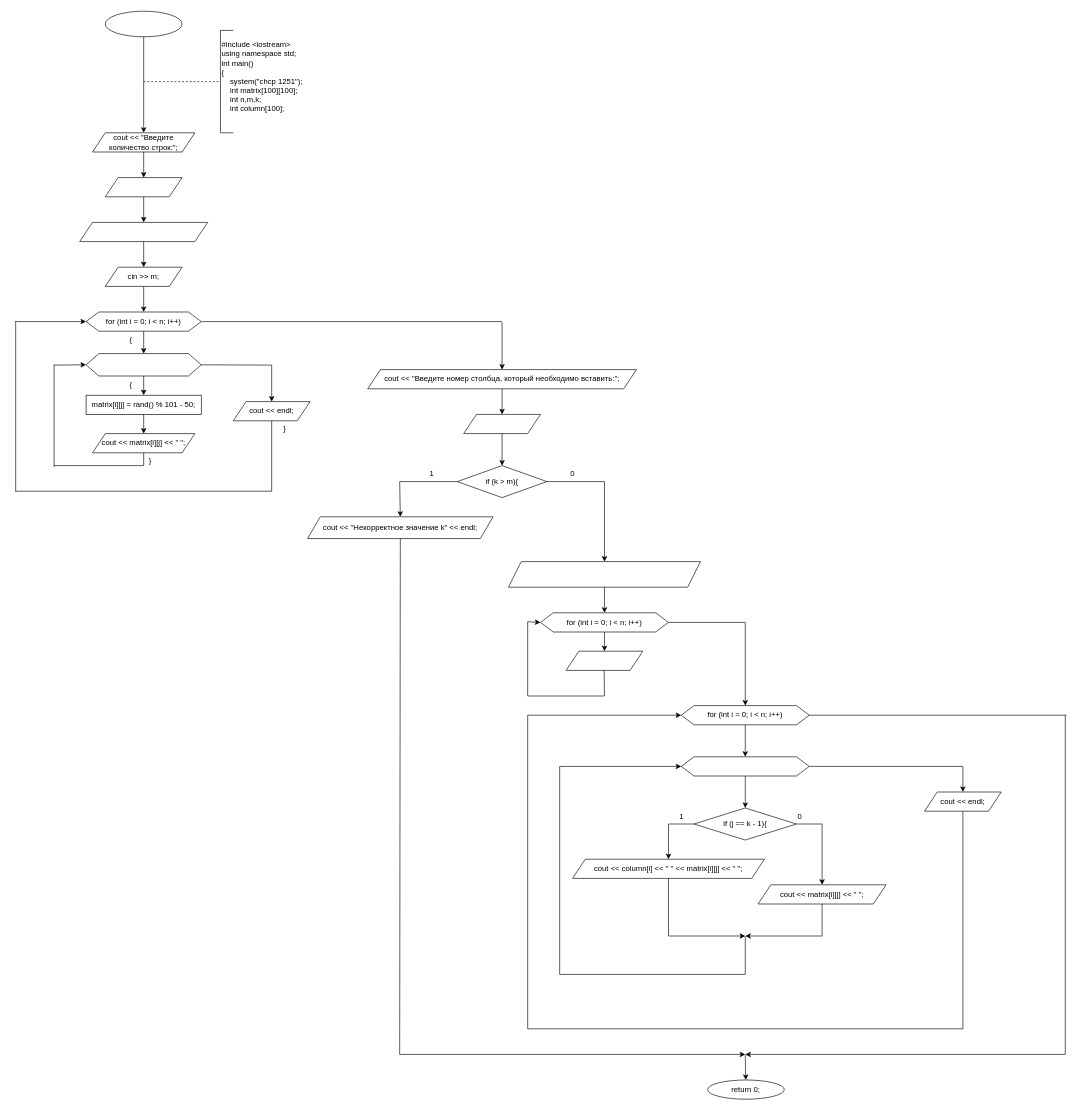
Some shapes in this 1082 by 1110 pixel diagram are drawn without their labels. The shapes that lost their labels are listed below. From the top down, each one's centre as x and y in pixels, then its label:
(143,24): Начало
(143,187): cin >> n;
(143,232): cout << "Введите количество столбцов:";
(143,364): for (int j = 0; j < m ; j++)
(501,424): cin >> k;
(604,574): cout << "Введите элементы столбца:" << endl;
(604,660): cin >> column[i];
(745,766): for (int j = 0; j < m; j++)
